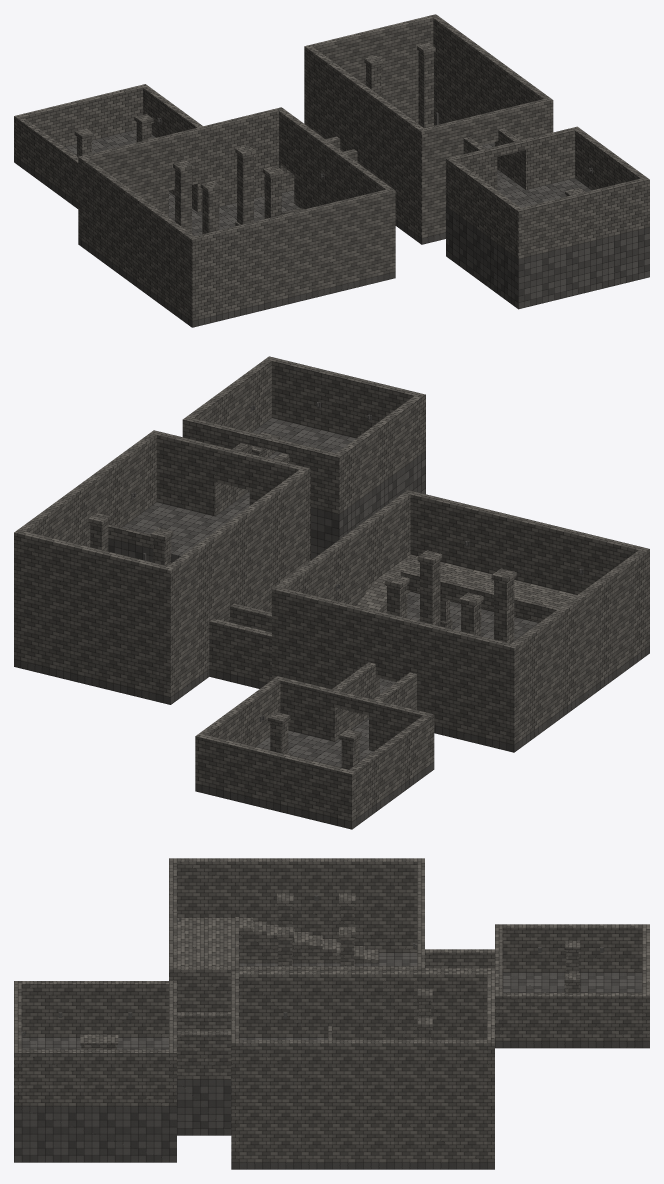
Rendered from level.glb.
3 renders of one model, top to bottom at view 1: azimuth 30°, elevation 25°; view 2: azimuth 150°, elevation 25°; view 3: azimuth 270°, elevation 25°, orthographic. The views are drawn at different scales.
Parts seen in each view (by area): view 1: Walls, Floors; view 2: Walls, Floors; view 3: Walls, Floors.
Part boxes in pixels (<box>): Walls: <box>14,14,649,321</box>; Floors: <box>14,125,649,327</box>; Walls: <box>14,356,649,821</box>; Floors: <box>14,418,649,829</box>; Walls: <box>14,858,649,1162</box>; Floors: <box>14,953,649,1169</box>.
Size of the model in its own units: 32.5 by 9 by 41.
3 materials, 2 textured.
